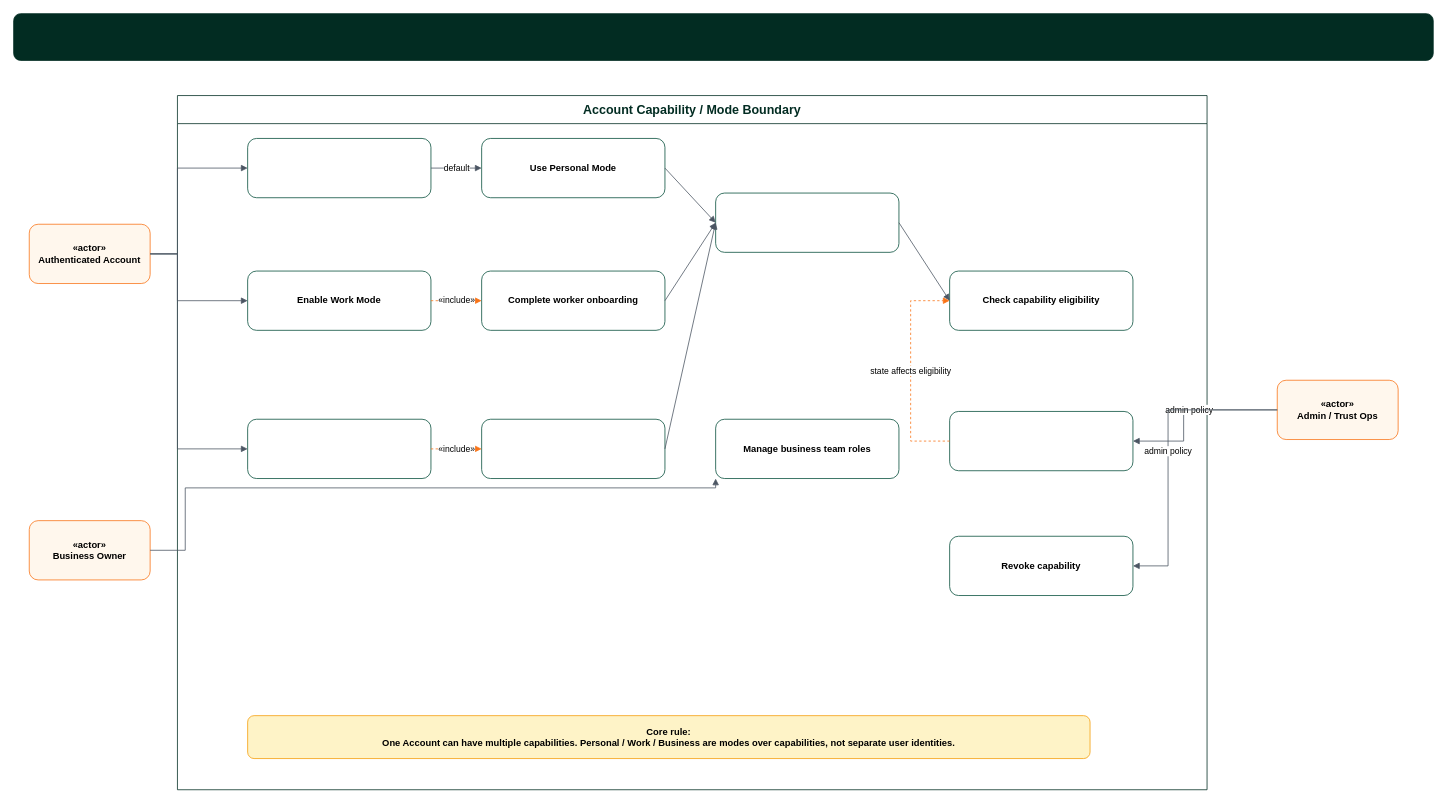
The diagram is 1447 pixels wide and 803 high, and some of its shapes have lost their labels. Here are the shapes that lost their labels. From the top down, the centre of each, then its label:
the point at 723,36: Viaverse Capability — Use Case Diagram
the point at 339,168: View available modes
the point at 807,222: Switch active mode
the point at 339,448: Start Business Mode
the point at 573,448: Create business profile
the point at 1041,441: Suspend capability
